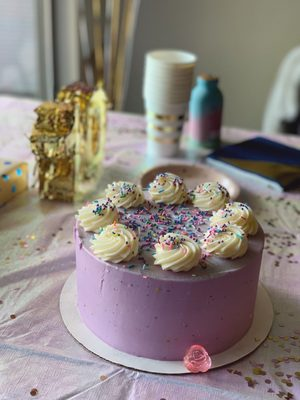pizza: (143, 49, 198, 158)
